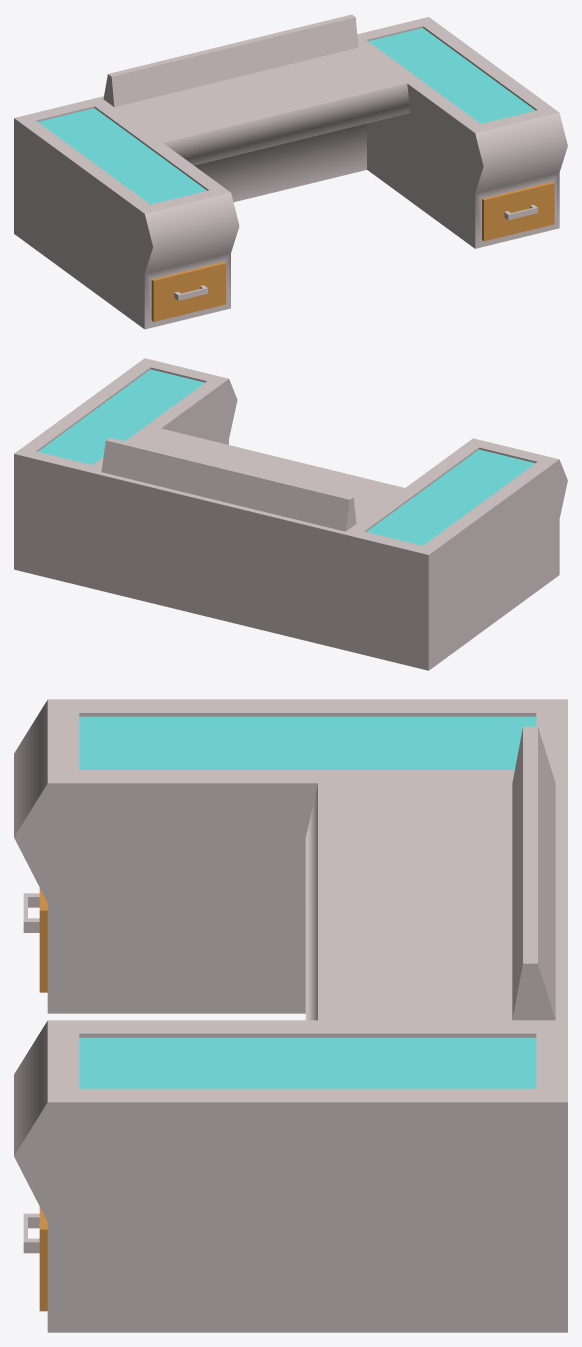
File: Desk.fbx
3 renders of one model, top to bottom at view 1: azimuth 30°, elevation 25°; view 2: azimuth 150°, elevation 25°; view 3: azimuth 270°, elevation 25°, orthographic. The views are drawn at different scales.
Parts seen in each view (by area): view 1: Bureau; view 2: Bureau; view 3: Bureau.
Part boxes in pixels (box(x1,y1,x2,y2)): Bureau: box(14, 14, 567, 329); Bureau: box(14, 358, 567, 670); Bureau: box(14, 699, 567, 1332).
Bounding box in the file's own units: 3 × 0.9972 × 1.74.
